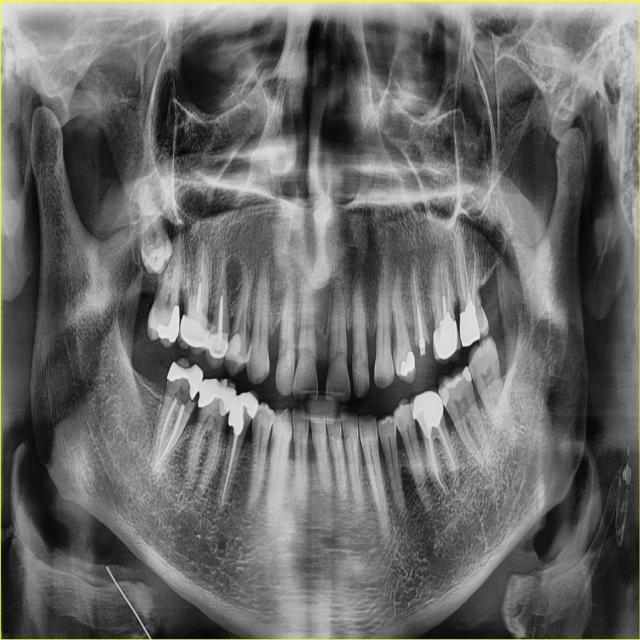71: (415, 302, 427, 356), (215, 294, 224, 349), (196, 280, 203, 307), (442, 292, 447, 318), (466, 290, 472, 304)
74: (149, 395, 187, 477), (436, 423, 460, 479), (221, 434, 238, 507), (425, 436, 444, 491), (453, 235, 468, 304), (459, 231, 470, 292), (432, 261, 441, 321), (471, 248, 476, 304), (412, 269, 419, 302), (186, 263, 190, 305), (200, 241, 204, 278), (440, 262, 444, 294), (447, 269, 450, 311), (201, 274, 205, 304), (222, 254, 224, 277)
NucleOSS Implant: (217, 387, 264, 436), (192, 374, 239, 418), (163, 356, 208, 401), (153, 300, 184, 343), (457, 300, 480, 347), (395, 350, 421, 379), (420, 402, 446, 430), (439, 311, 456, 347)
Sterngold Implant: (172, 381, 201, 409), (208, 406, 228, 446), (468, 362, 482, 387), (194, 406, 204, 426), (277, 334, 285, 353), (352, 354, 358, 373)
Straumann Implant: (429, 358, 477, 407), (224, 333, 243, 375)
Zimmer Implant: (404, 384, 455, 439), (428, 321, 465, 365), (176, 314, 210, 354), (202, 330, 230, 369)
